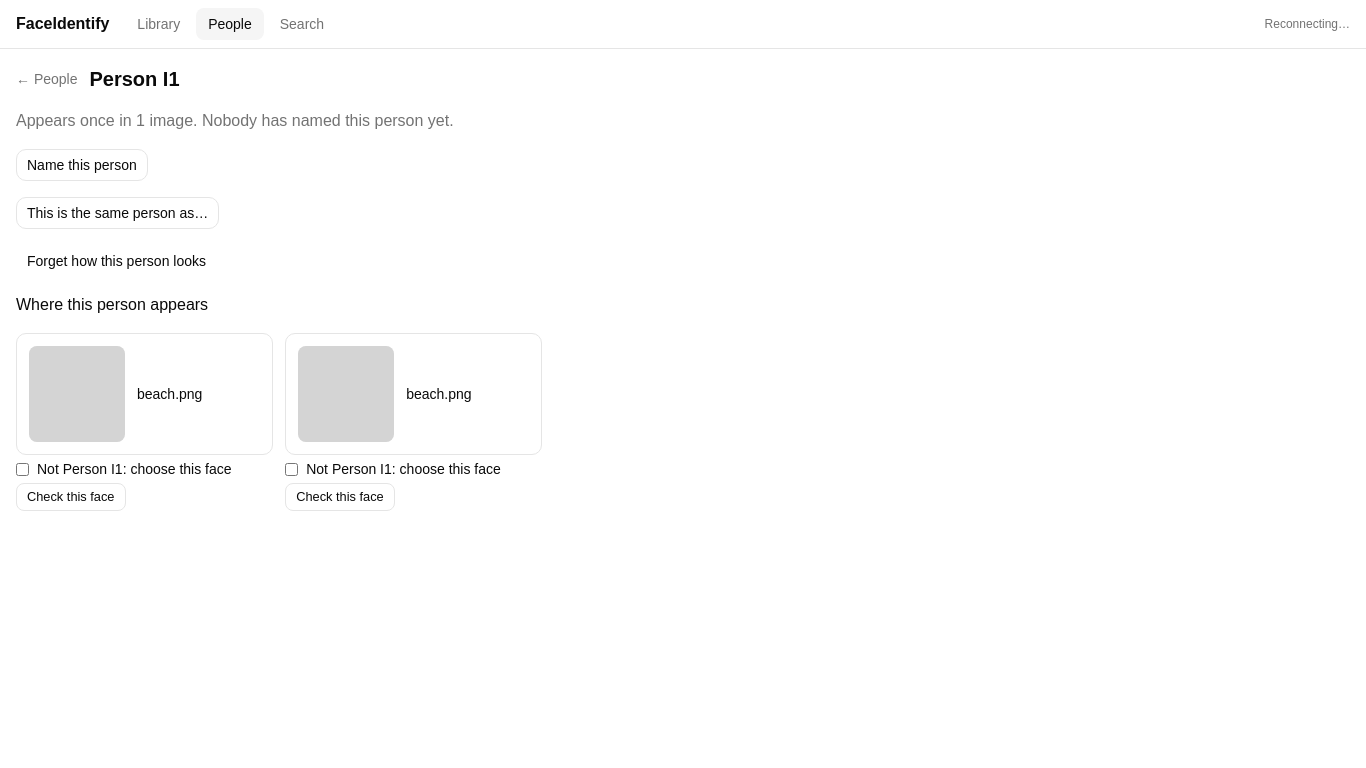
merging a person into another › says so when one of the people changed since the page was loaded
Click the button "This is the same person as…" at (118, 213), box [16,197,219,229]
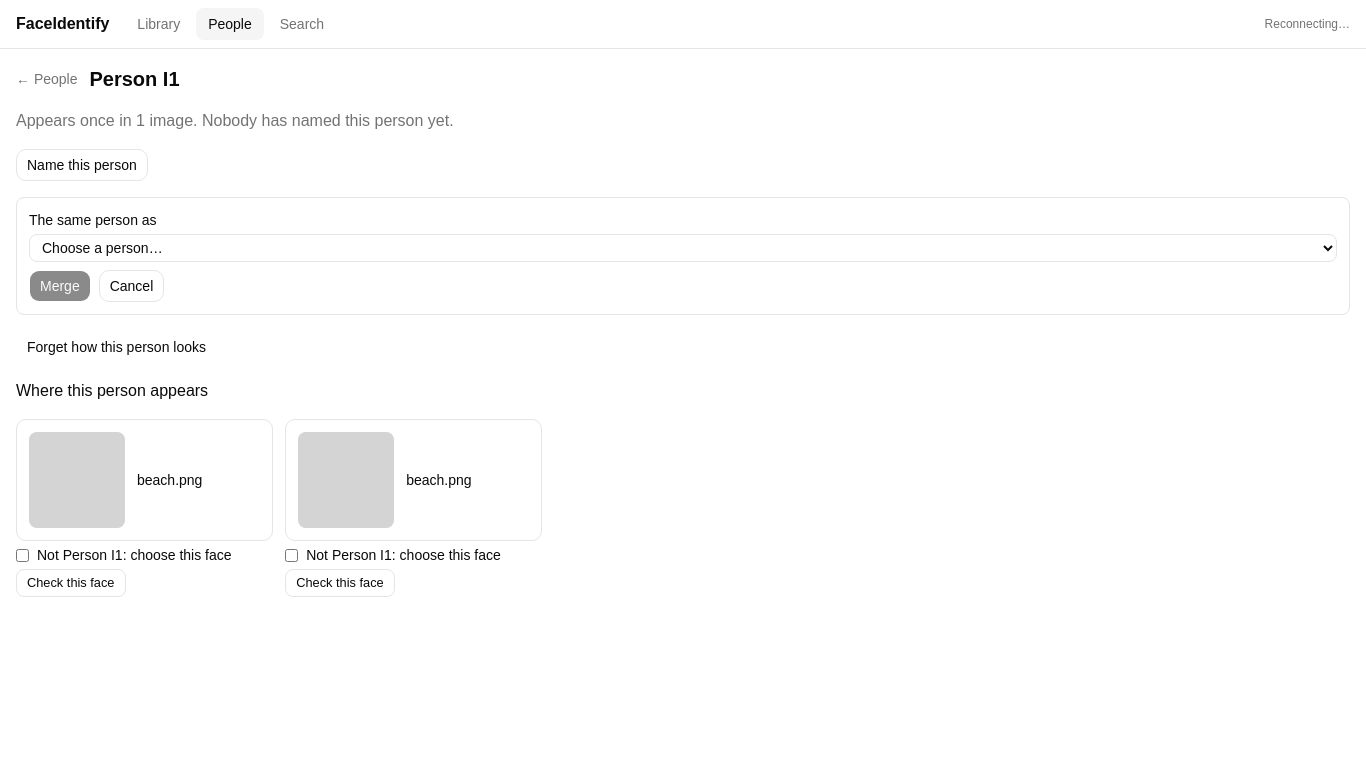
Select "Bob" in the dropdown at (683, 248), box [29,234,1337,262]
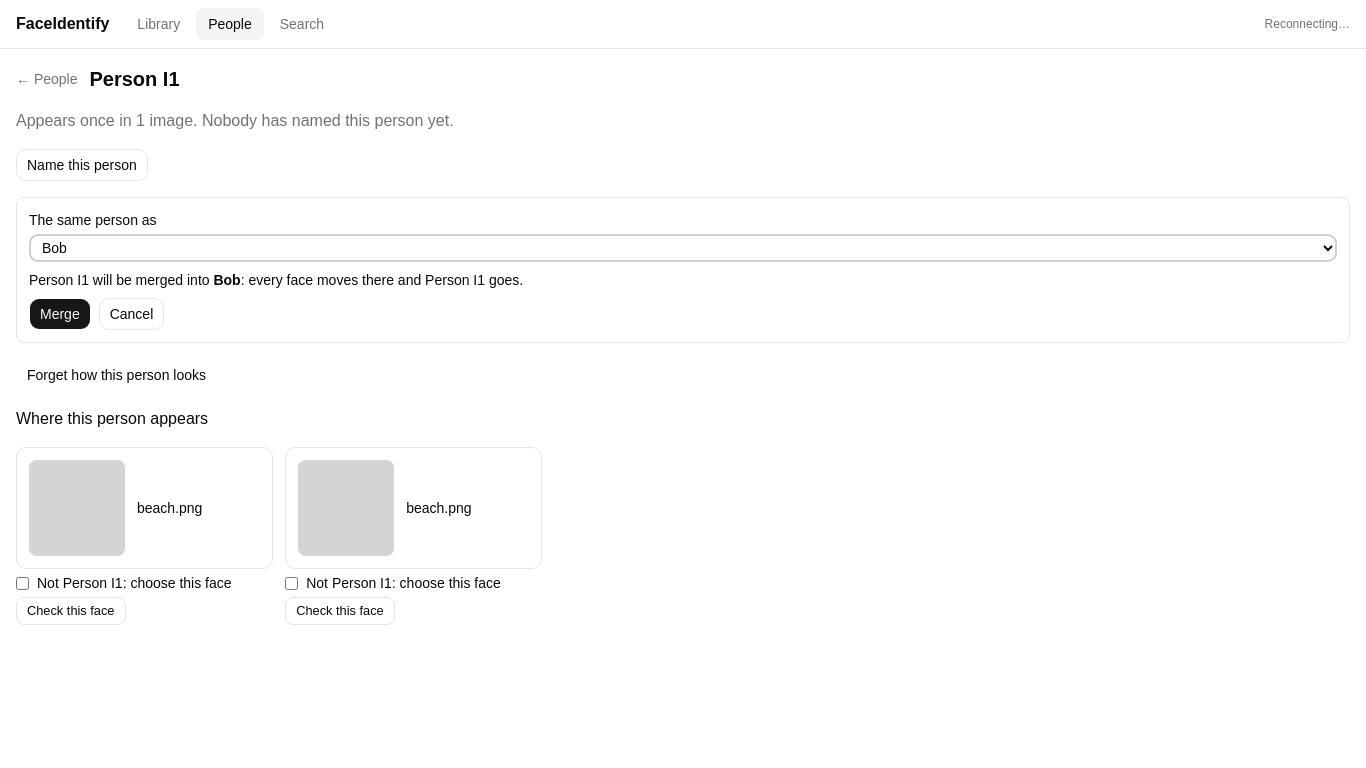
Click the button "Merge" at (60, 314), box [29,298,91,330]
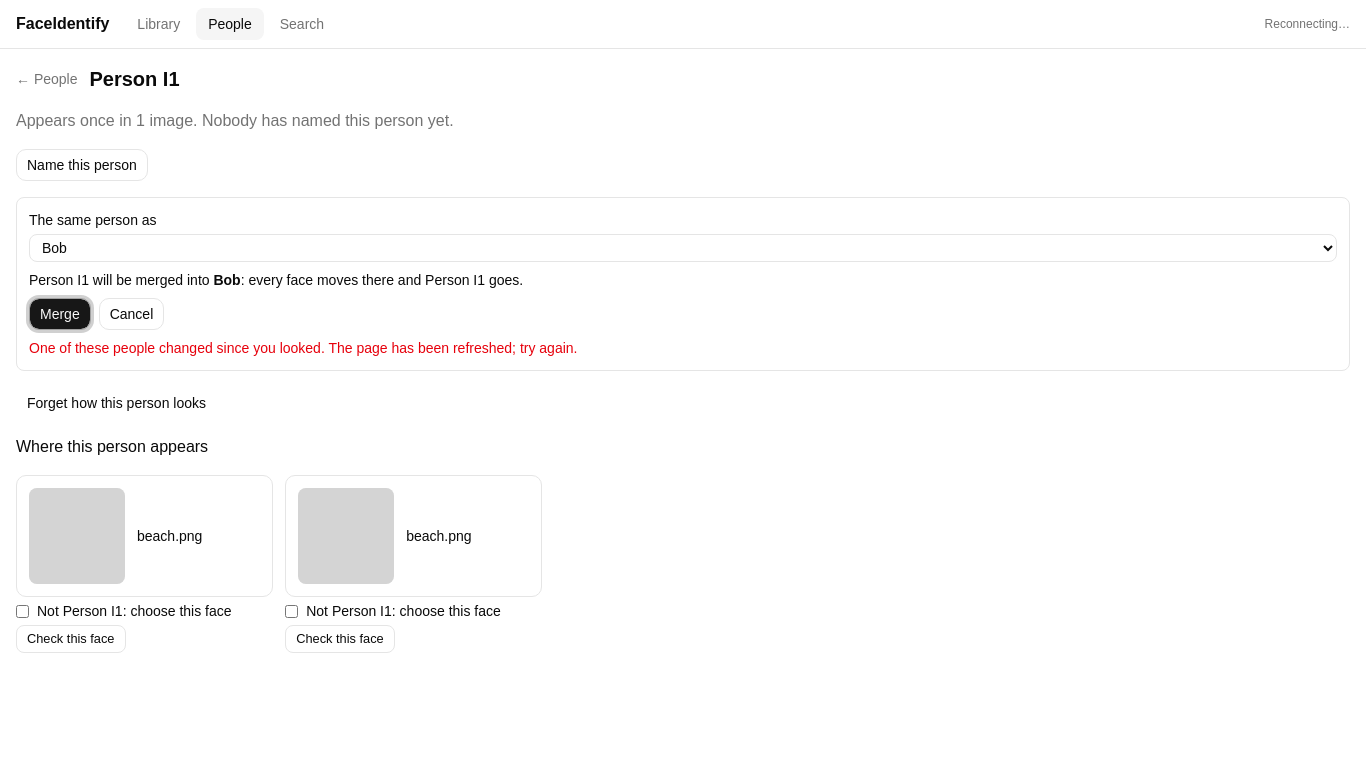
expect the 2nd message shows "One of these people changed": met, box [29,340,578,356]
